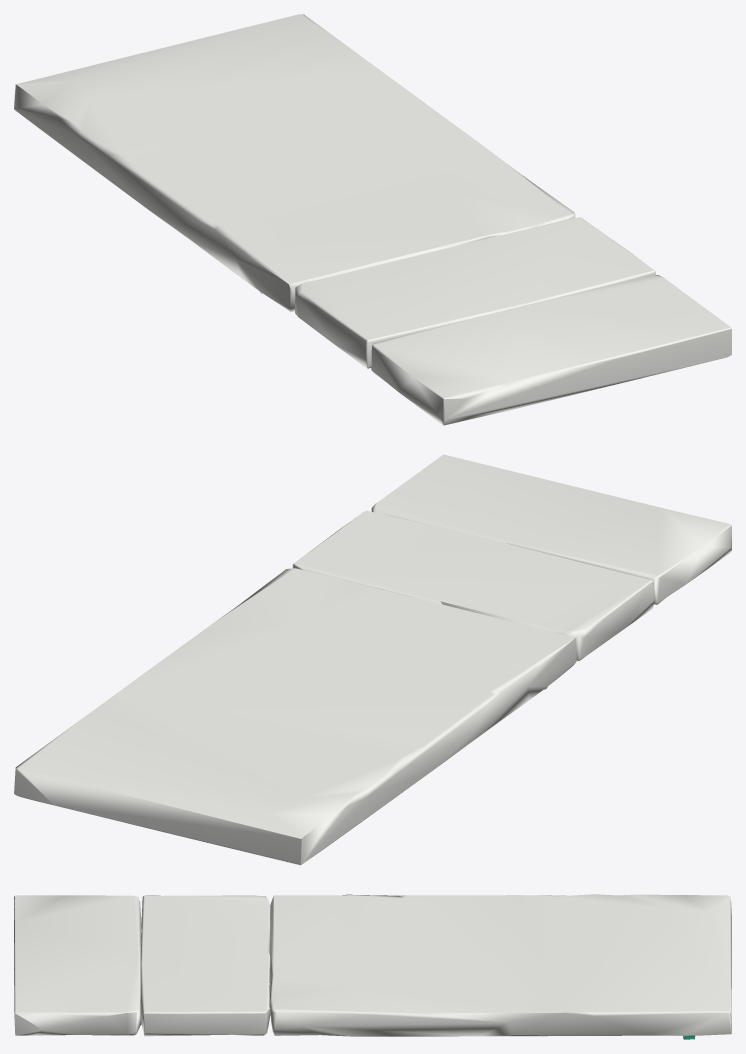
Rendered from plutten_materac_piankowy_na_ozko_rozsuwane_80615636.glb.
3 renders of one model, top to bottom at view 1: azimuth 30°, elevation 25°; view 2: azimuth 150°, elevation 25°; view 3: azimuth 270°, elevation 25°, orthographic. The views are drawn at different scales.
Parts seen in each view (by area): view 1: plutten_materac_piankowy_na_ozko_rozsuwane_80615636; view 2: plutten_materac_piankowy_na_ozko_rozsuwane_80615636; view 3: plutten_materac_piankowy_na_ozko_rozsuwane_80615636.
Part boxes in pixels (x1,y1,x2,y2): plutten_materac_piankowy_na_ozko_rozsuwane_80615636: (14,14,731,425); plutten_materac_piankowy_na_ozko_rozsuwane_80615636: (14,454,731,865); plutten_materac_piankowy_na_ozko_rozsuwane_80615636: (14,894,731,1039).
Bounding box in the file's own units: 0.8097 × 0.0907 × 2.06.
Materials: 1 (1 with a texture image).
